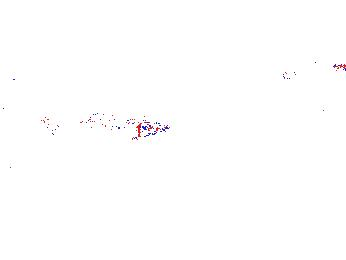glassfish: (42, 110, 173, 139)
red belly glassfish: (314, 59, 346, 73), (281, 66, 308, 81), (317, 101, 331, 119)
redtail glassfish: (195, 65, 210, 84)
